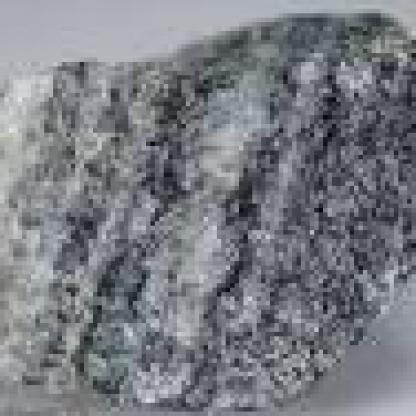Metamorphic_Quartize: (4, 0, 416, 412)
